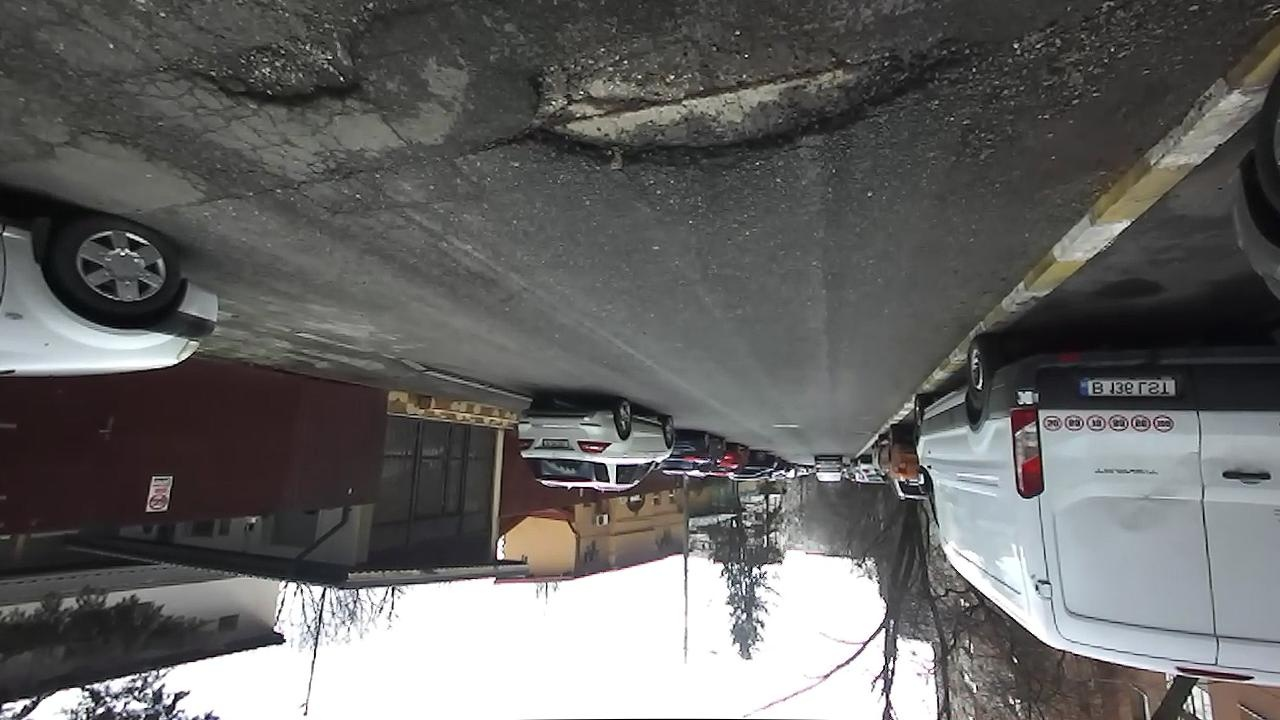pothole: (485, 9, 1010, 175), (171, 7, 388, 111)
